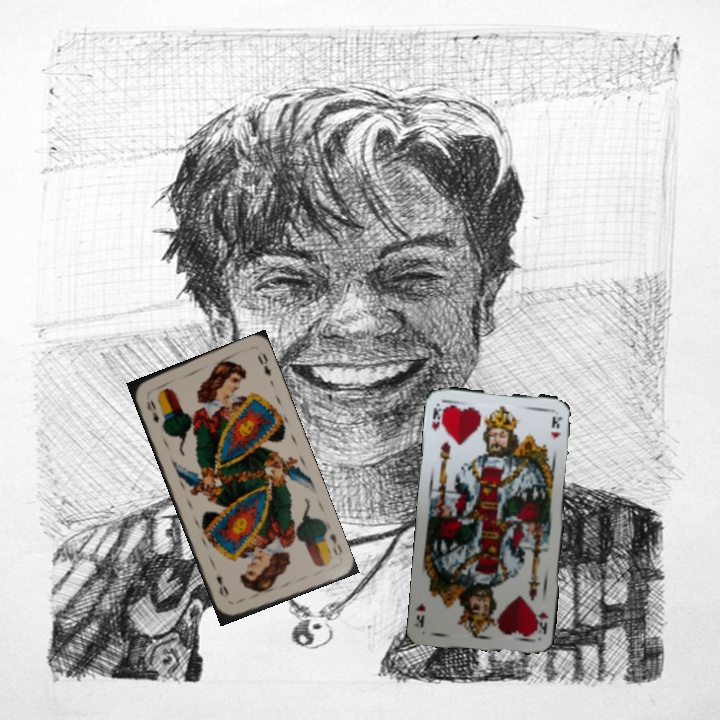EO: (142, 395, 162, 425), (326, 530, 345, 558)
HK: (427, 401, 447, 433), (531, 608, 550, 638)
